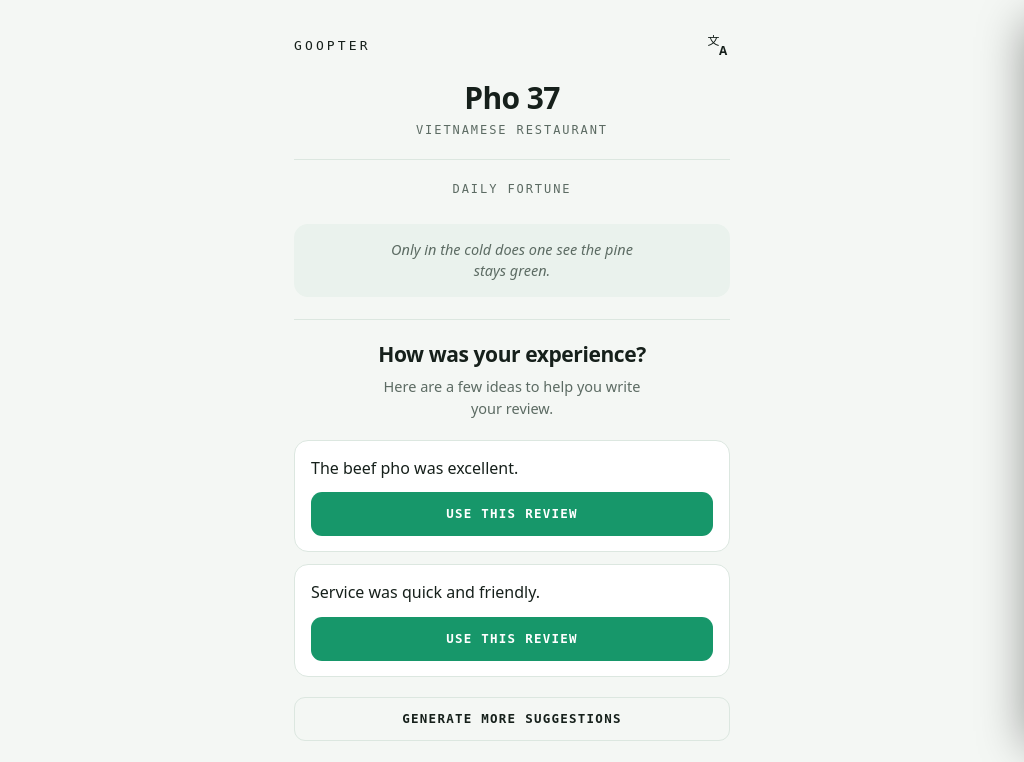
Test: switching language › generates in the new language when it has nothing yet
The width and height of the screenshot is (1024, 762).
Expected: the heading "Pho 37" is shown, [464,82,560,114]
Expected: the text "The beef pho was excellent." is shown, [311,457,518,479]
Click the button with class "menu": point(718, 45) [701,28,735,62]
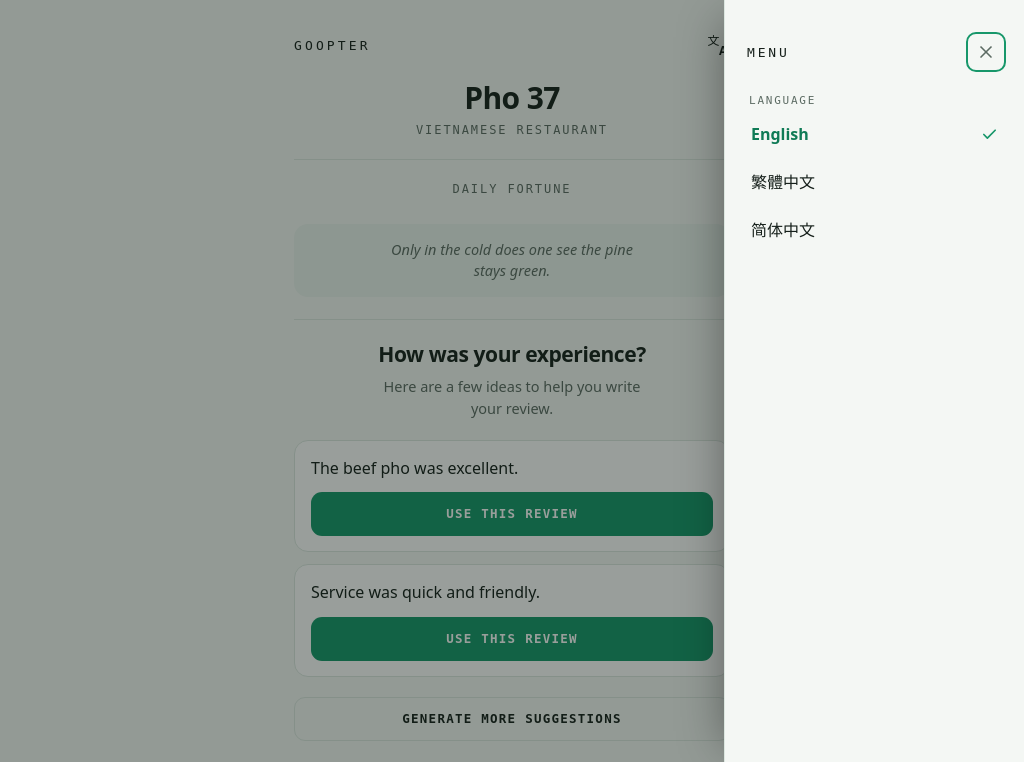
Click the menu item "繁體中文": point(783, 182) [743,157,1006,205]
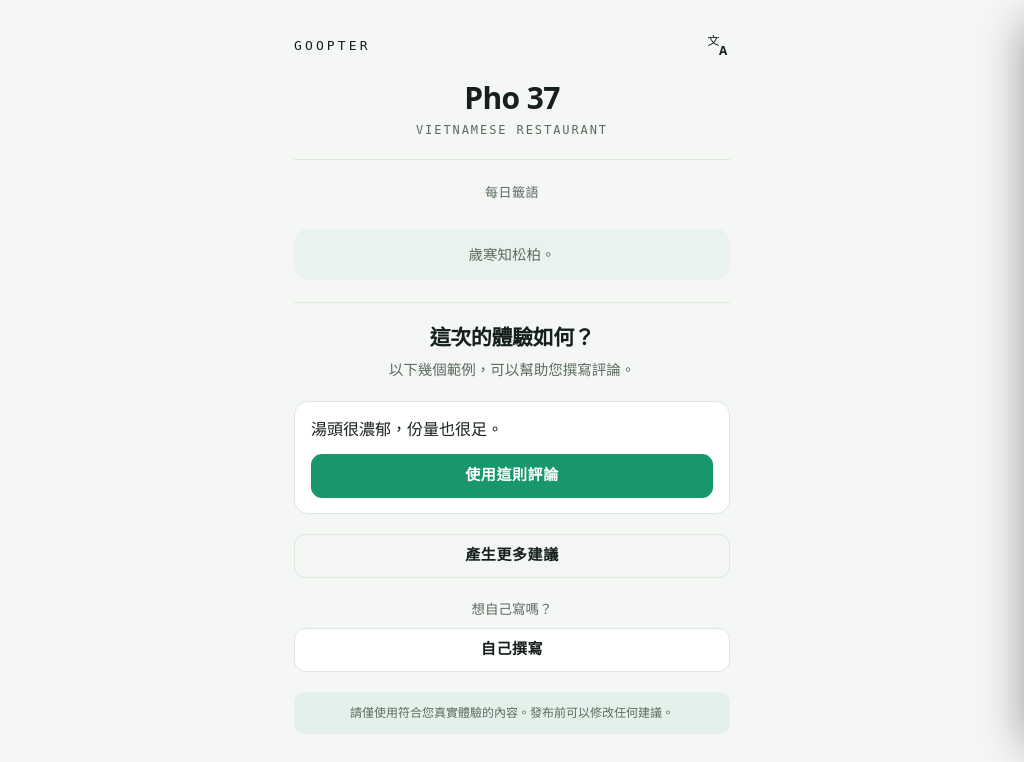
Expected: the text "湯頭很濃郁，份量也很足。" is shown, [311,418,503,440]
